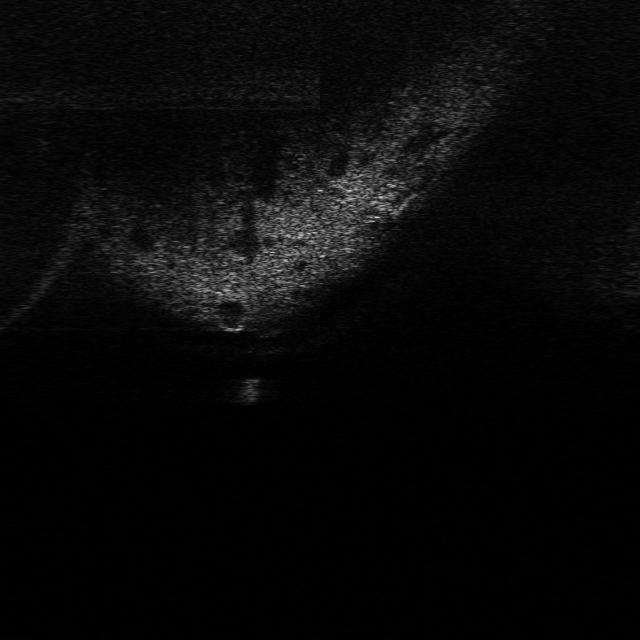cylinder: (232, 376, 266, 407)
